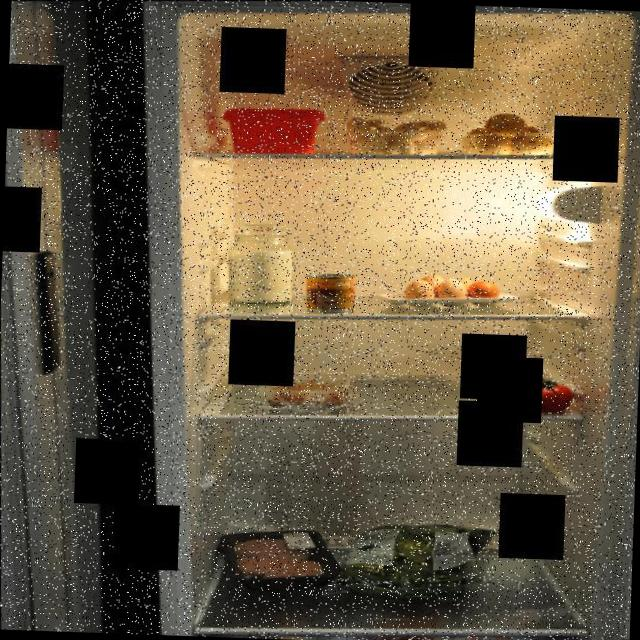Carne pollo: (232, 529, 331, 588)
Champiñones: (343, 110, 448, 157)
Gambas/Langostinos: (262, 372, 352, 413)
Huevos: (400, 269, 500, 310)
Mantequilla: (219, 102, 327, 159)
Tomate: (476, 369, 575, 417)
